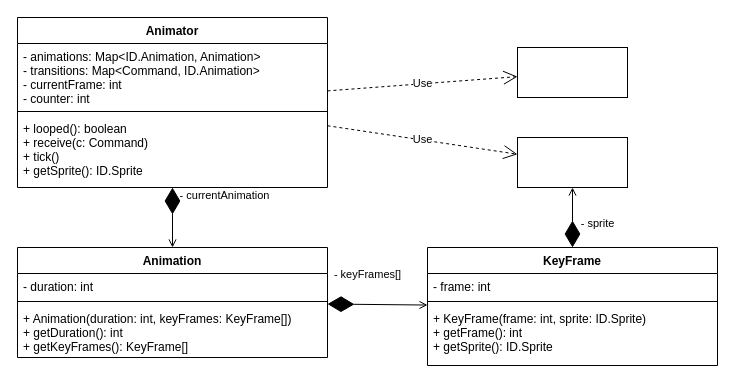
Image size: 735x386. Some labels were removed from this diagram. The box of each missing label's shape, as (x1, y1, x2, y2) in pixels:
«class» ID: (516, 136, 628, 188)
«enumeration» Command: (516, 46, 628, 98)
